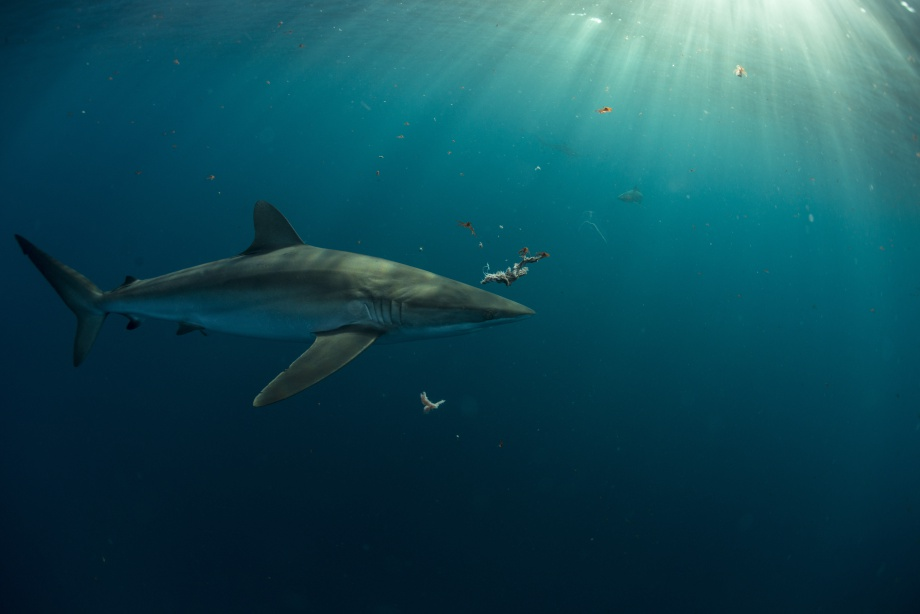Sedoso: (13, 189, 550, 411)
